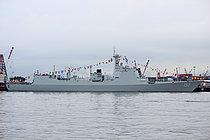MIL_Ship: (3, 53, 201, 92)
